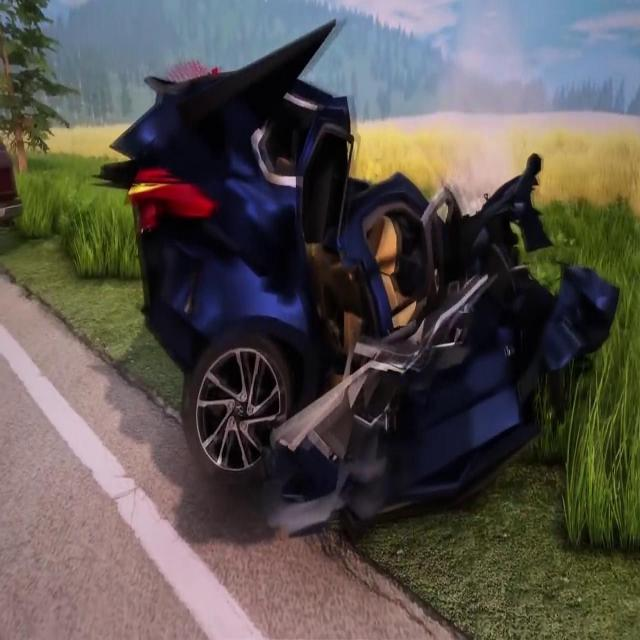accident: (90, 11, 625, 544)
